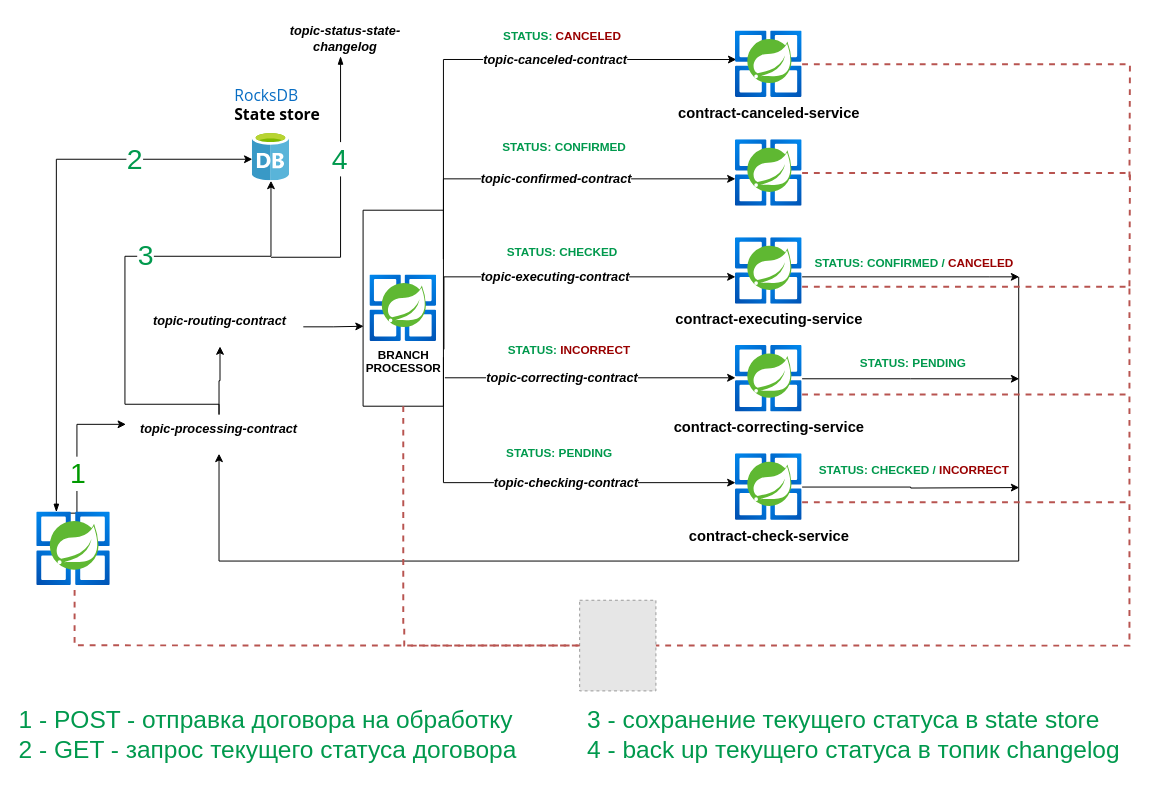
The diagram is 1161 pixels wide and 804 high, and some of its shapes have lost their labels. Grey dashed boxes stand in for pictures. Each missing label, with the centre of its shape:
"contract-confirmed-service" belongs at (768,172).
"contract-service" belongs at (73,548).
